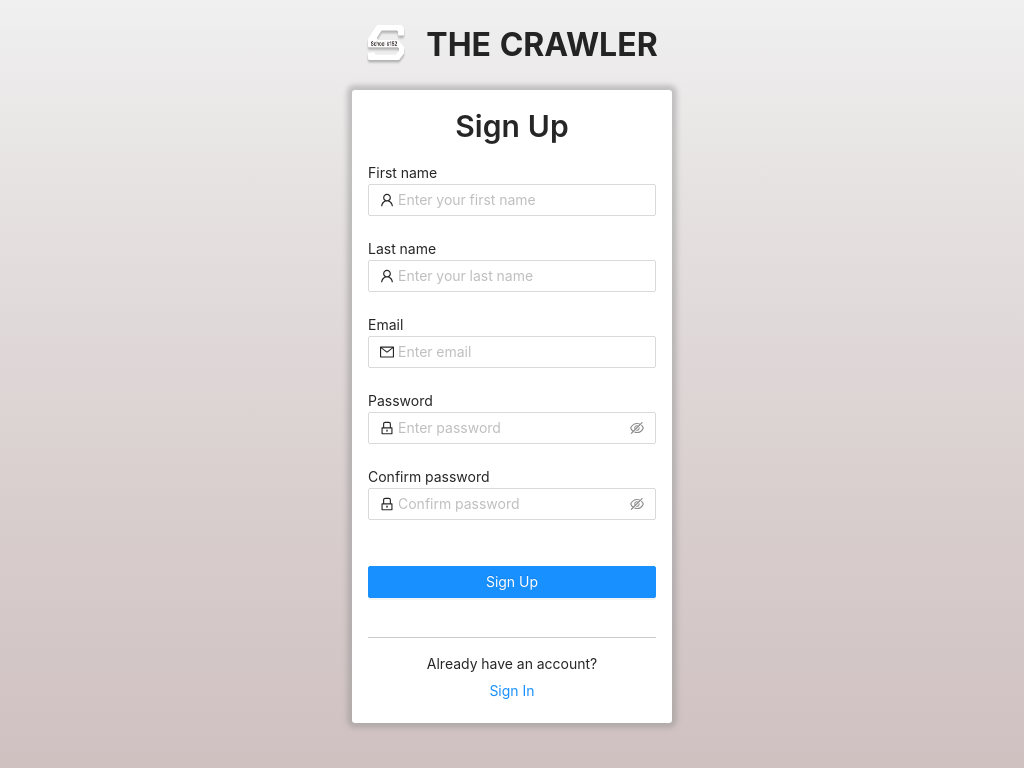
Test case: <SignUp /> render › Should render with error messages
Click the button "Sign Up".
click(512, 582)  # box x1=368 y1=566 x2=656 y2=598
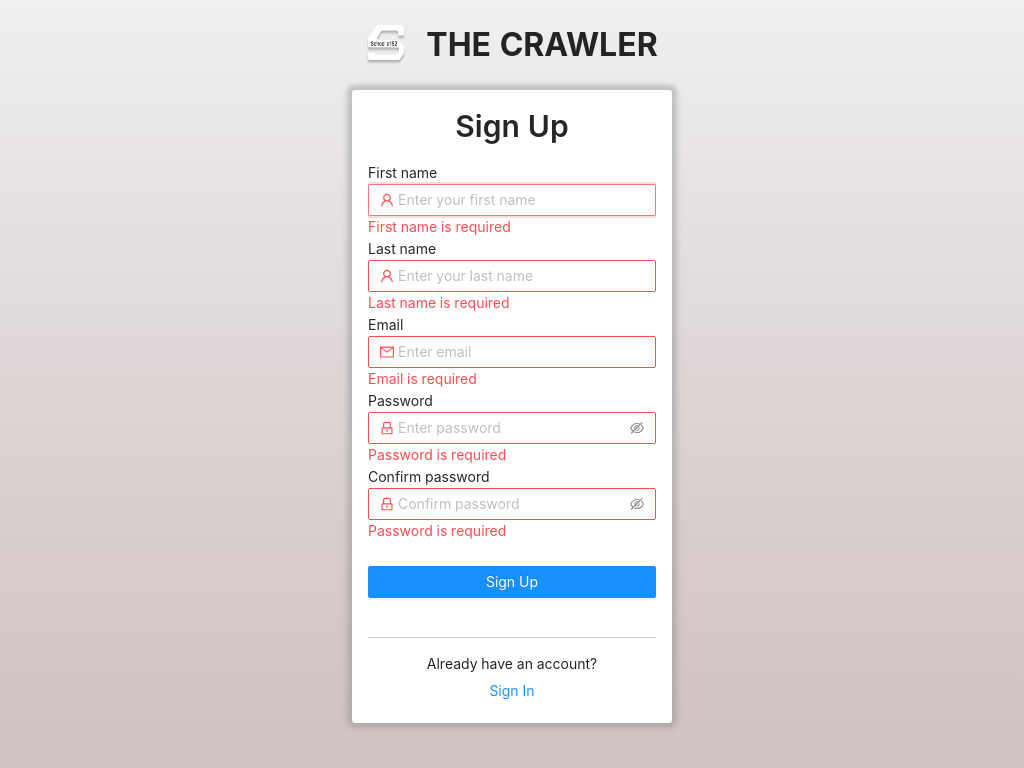
Result: the text "First name is required" is shown 5 times at x1=368 y1=218 x2=511 y2=235; x1=368 y1=294 x2=510 y2=311; x1=368 y1=370 x2=477 y2=387; x1=368 y1=446 x2=506 y2=463; x1=368 y1=522 x2=506 y2=539
